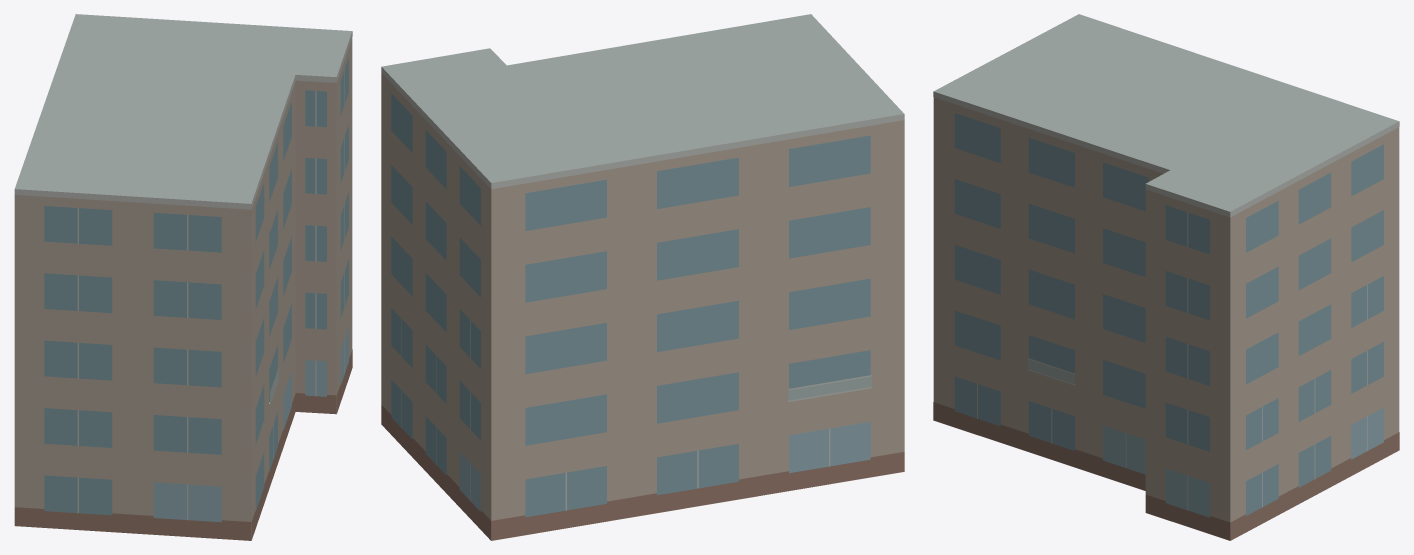
File: survey-upis-33023644.glb
3 renders of one model, left to right at view 1: azimuth 30°, elevation 25°; view 2: azimuth 150°, elevation 25°; view 3: azimuth 270°, elevation 25°, orthographic. The views are drawn at different scales.
Visible parts, largest first — view 1: survey-upis-33023644.tmp; view 2: survey-upis-33023644.tmp; view 3: survey-upis-33023644.tmp.
Boxes of the visible parts, x1,y1,x2,y2 form: survey-upis-33023644.tmp: [14, 14, 352, 540]; survey-upis-33023644.tmp: [381, 14, 904, 540]; survey-upis-33023644.tmp: [933, 14, 1399, 540].
Bounding box in the file's own units: 18.45 × 14.3 × 18.36.
